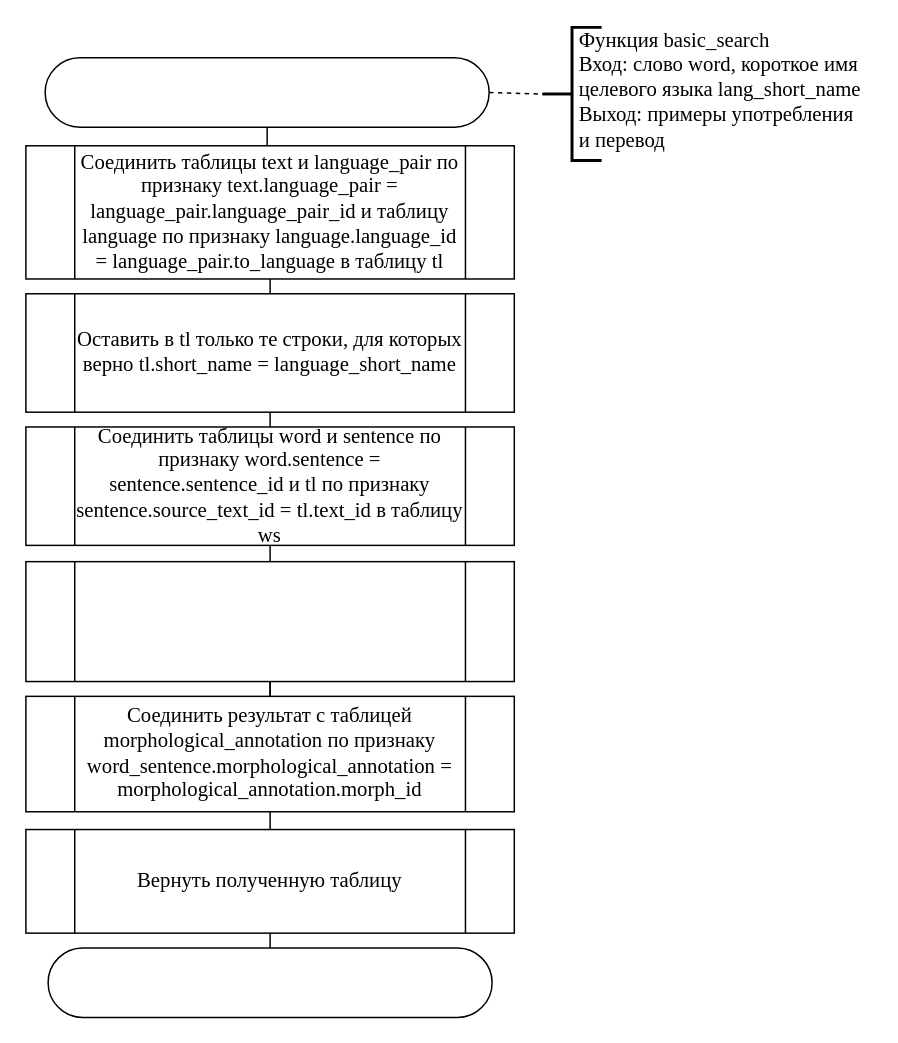
Some shapes in this 898 by 1043 pixel diagram are drawn without their labels. The centre of each missing label's shape, as x and y in pixels:
Конец: point 269,982
Начало: point 266,91
Оставить в ws только те строки, для которых верно ws.source_word = word: point 269,621
